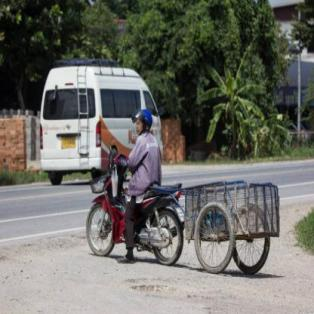Motocicleta: (84, 145, 185, 272)
